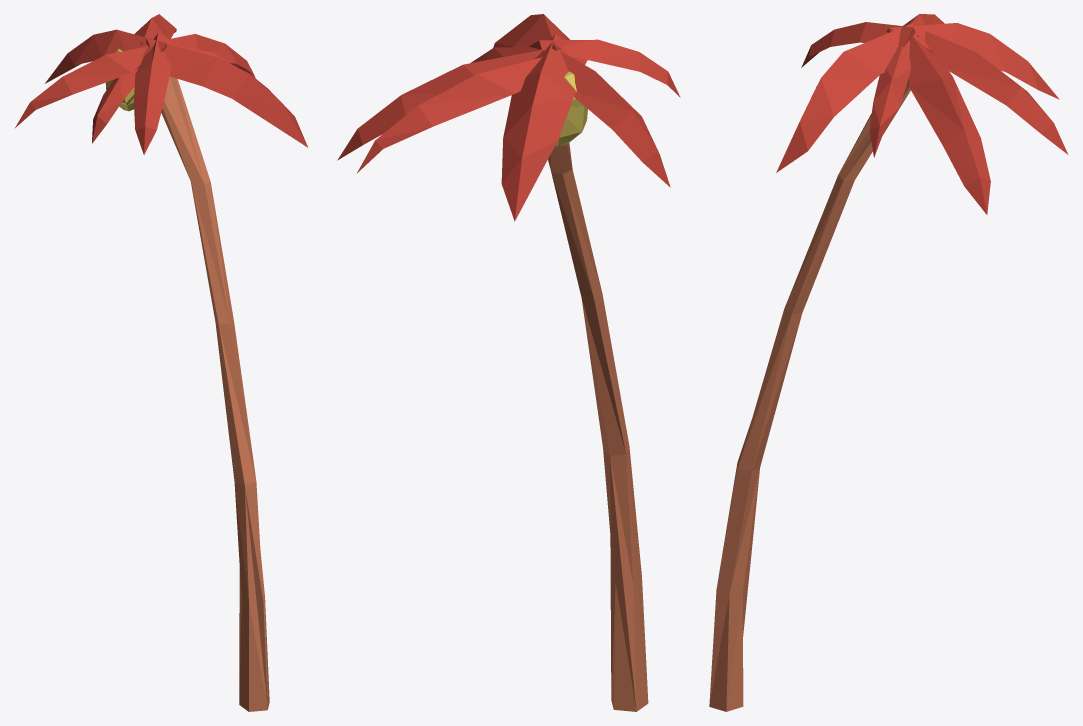
File: Tree_12_summer_red_mat.fbx
The picture shows the model from 3 angles, left to right: view 1: azimuth 30°, elevation 25°; view 2: azimuth 150°, elevation 25°; view 3: azimuth 270°, elevation 25°; orthographic projection. The views are drawn at different scales.
Visible parts, largest first — view 1: Tree_12_summer_red_mat; view 2: Tree_12_summer_red_mat; view 3: Tree_12_summer_red_mat.
Boxes of the visible parts, bbox=[...] form: Tree_12_summer_red_mat: bbox=[15, 14, 308, 711]; Tree_12_summer_red_mat: bbox=[337, 14, 680, 711]; Tree_12_summer_red_mat: bbox=[709, 14, 1068, 711].
Bounding box in the file's own units: 80.91 × 183 × 88.81.
